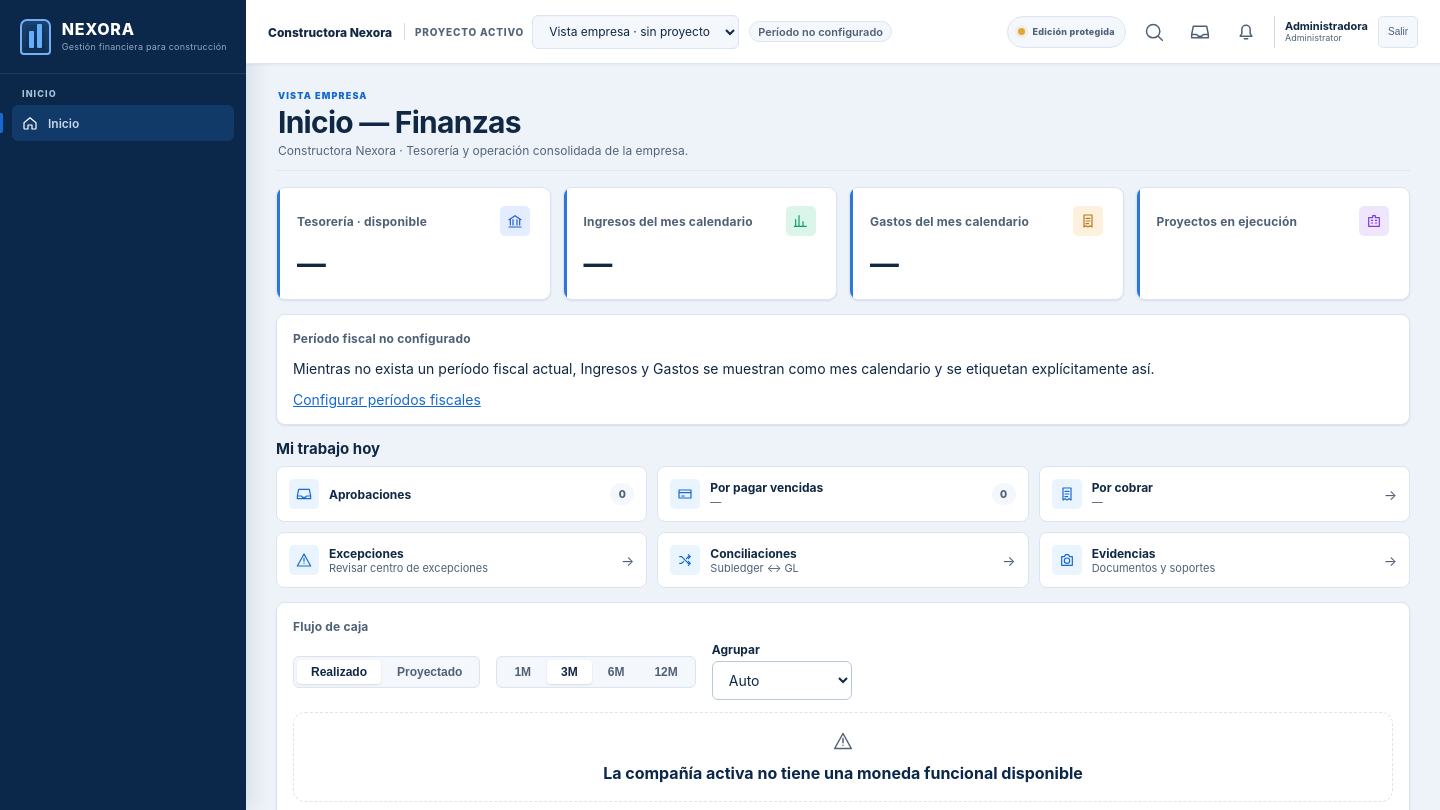
Test: Global search in the command palette › keeps showing local nav matches while the remote search is still loading
Check: the heading "Inicio — Finanzas" is shown, box [278, 104, 521, 140]
Step 1. Click the button named "búsqueda global" → point(1154, 32), box [1136, 14, 1172, 50]
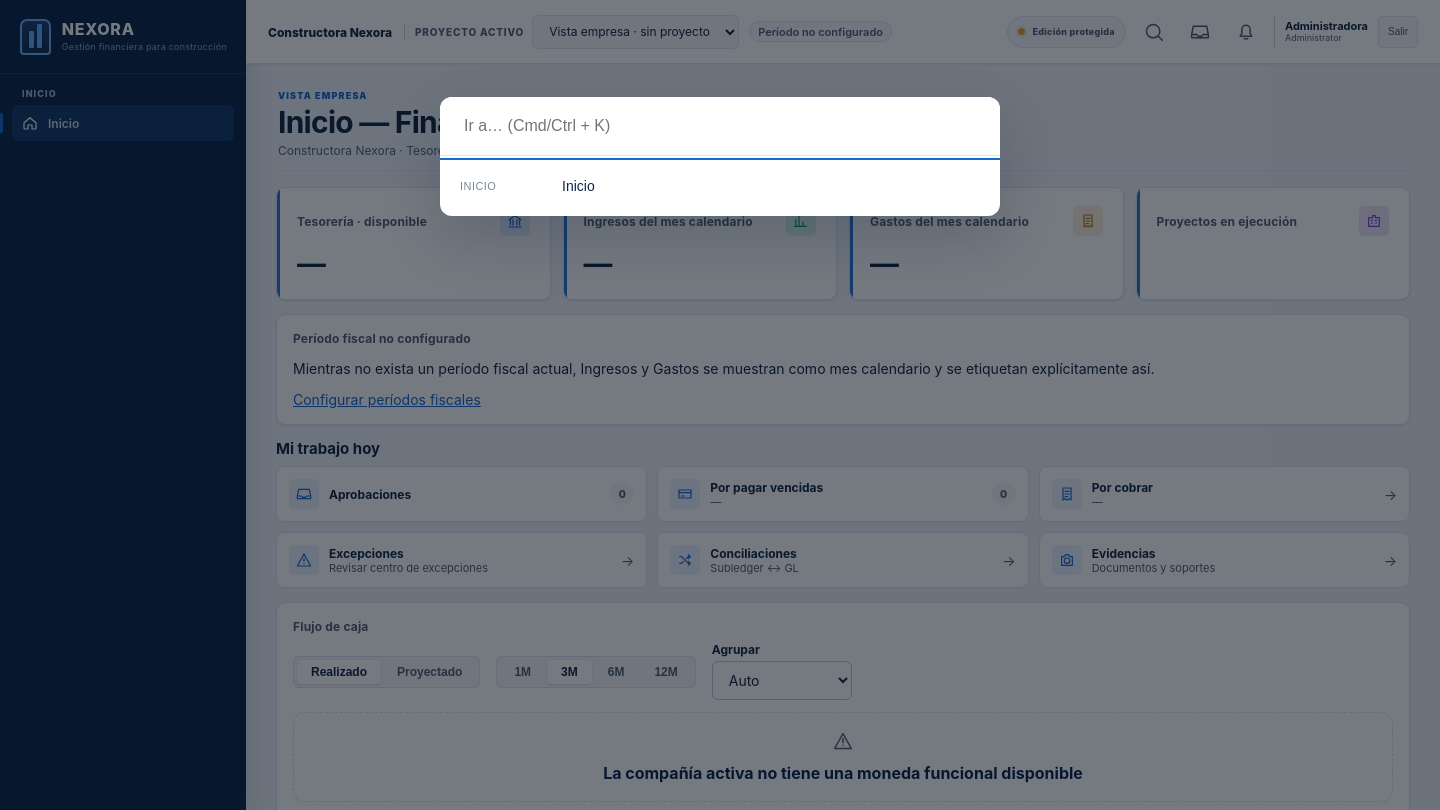
Step 2. Type "Proyec" into the field with placeholder "Ir a… (Cmd/Ctrl + K)" → point(720, 127), box [440, 97, 1000, 156]
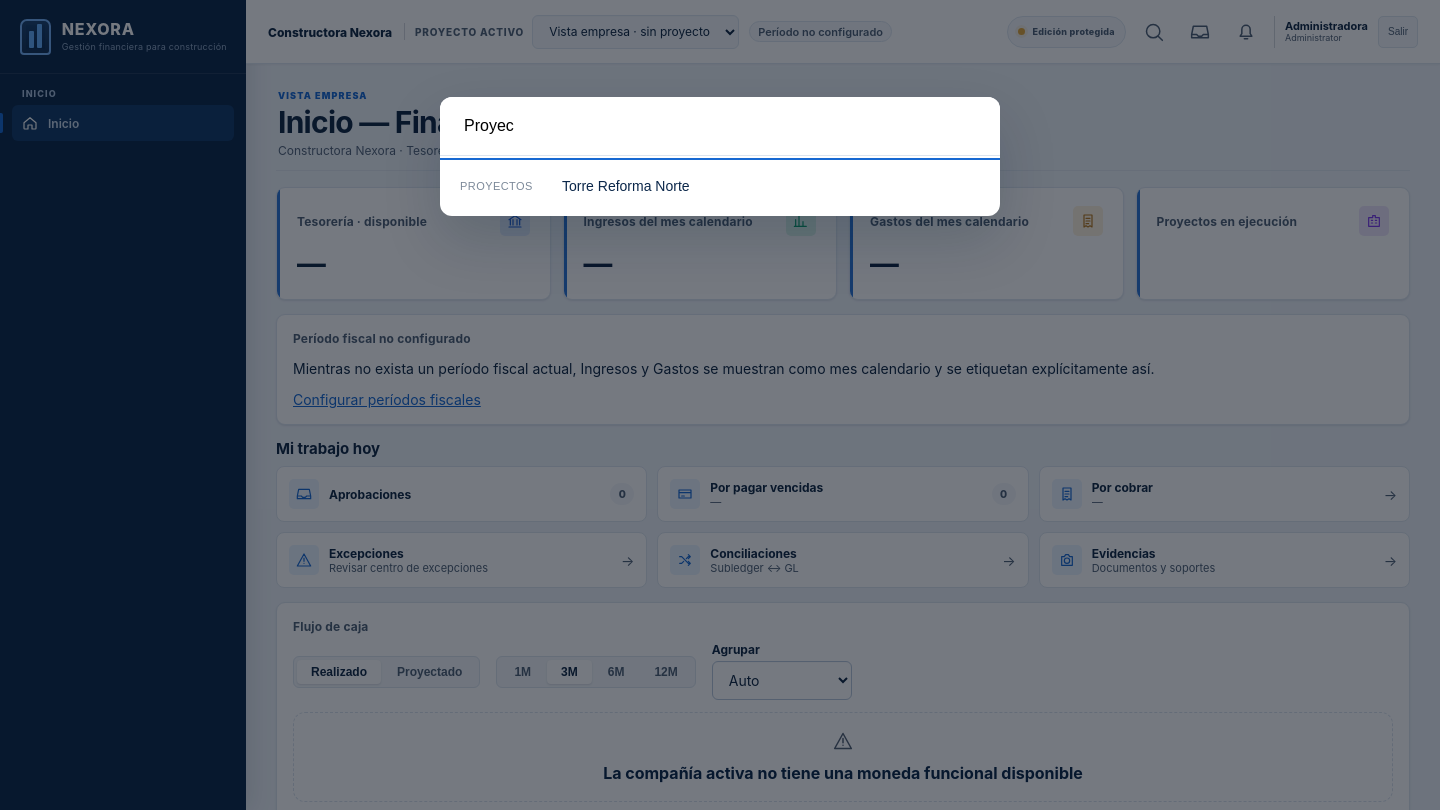
Check: the number of options is 1, box [448, 164, 992, 208]
Check: the option shows "Proyectos", box [448, 164, 992, 208]
